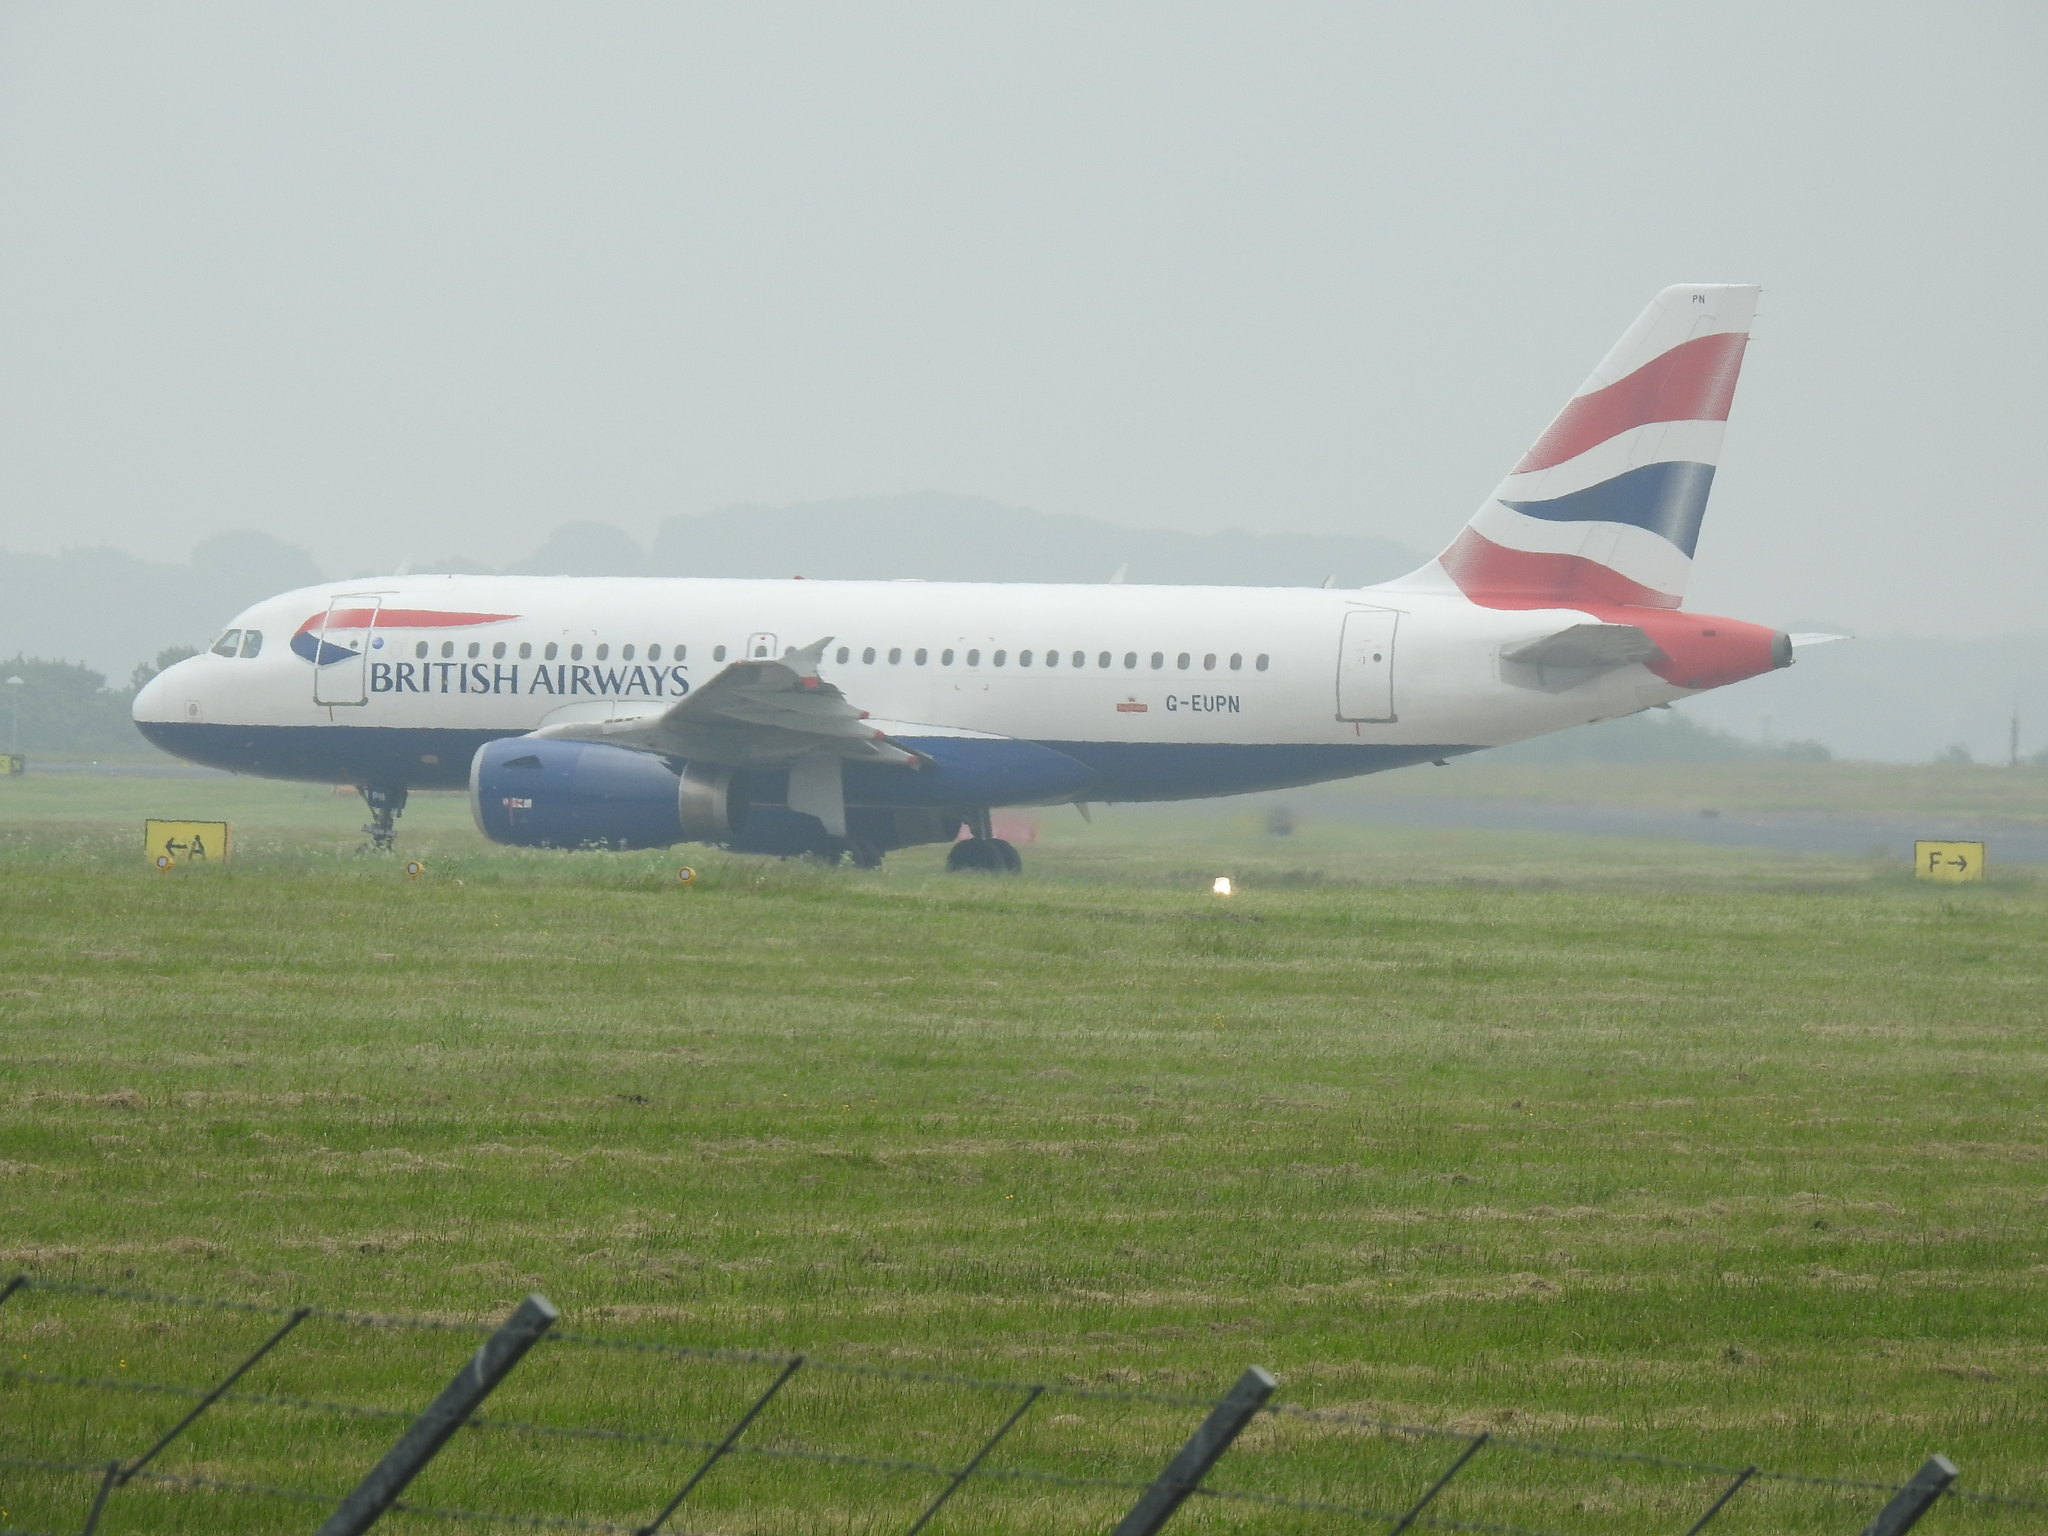aeroplane: (131, 274, 1846, 886)
